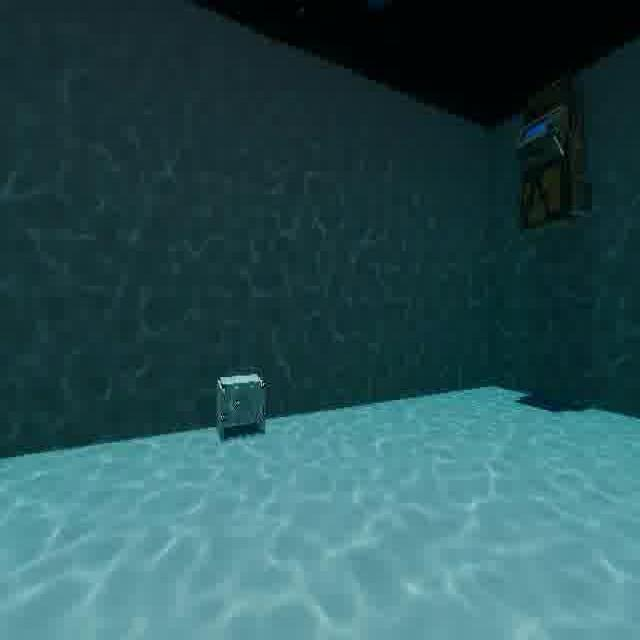Control Panel: (508, 56, 597, 245)
Docking Station: (214, 364, 273, 444)
